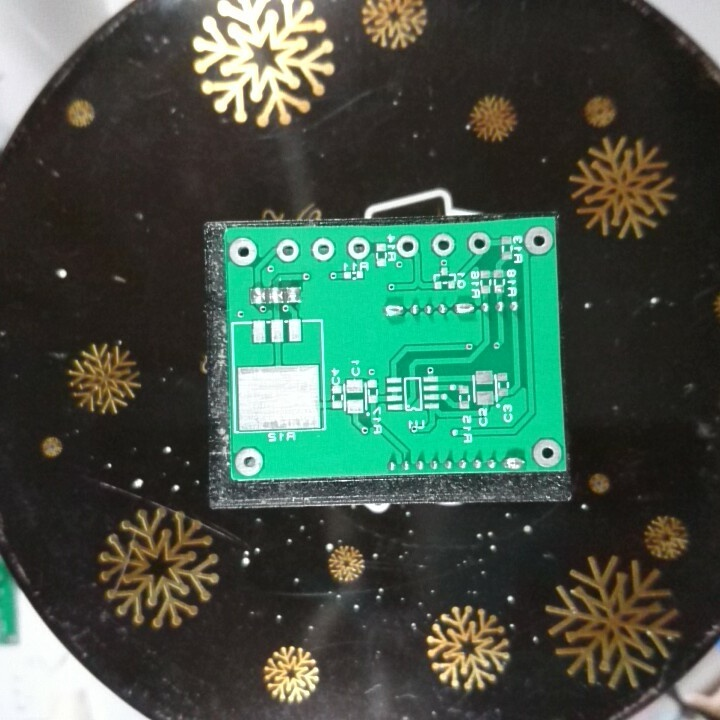F: (531, 436, 565, 471), (227, 235, 261, 269), (233, 446, 267, 478), (522, 224, 554, 257), (274, 235, 301, 264), (394, 233, 422, 260), (310, 236, 337, 263), (430, 232, 458, 258), (345, 235, 371, 262), (466, 230, 491, 257)
P: (380, 301, 407, 321), (451, 300, 477, 319), (501, 455, 526, 472)
